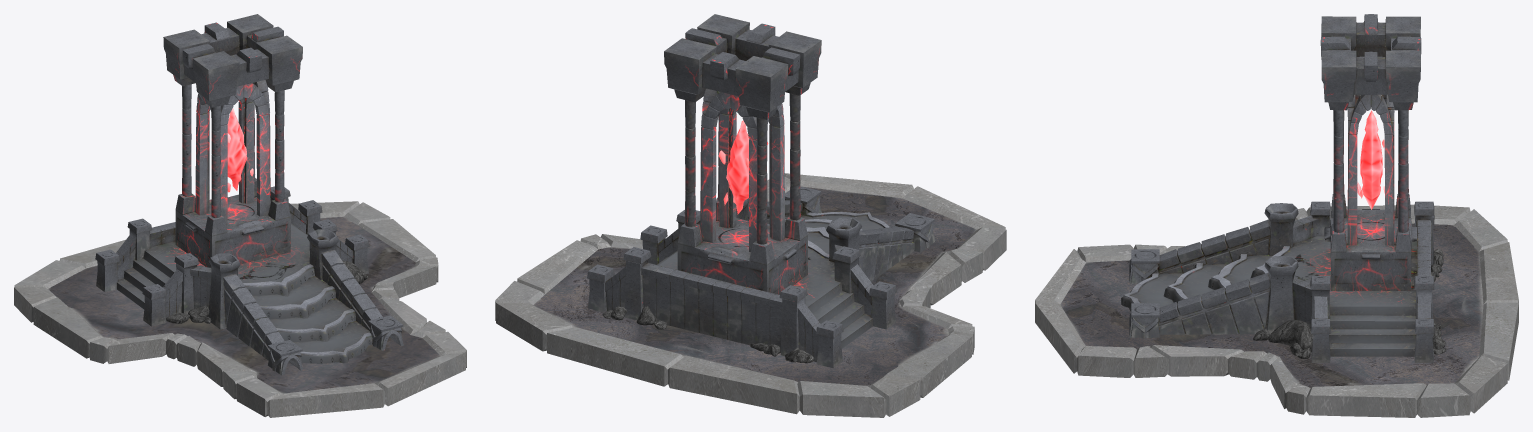
Rendered from agriels_crystal_altar.glb.
The picture shows the model from 3 angles, left to right: view 1: azimuth 30°, elevation 25°; view 2: azimuth 150°, elevation 25°; view 3: azimuth 270°, elevation 25°; orthographic projection. The views are drawn at different scales.
Visible parts, largest first — view 1: Diorama, polySurface1, CrystalAltar_Stand_low, CrystalAltar_IsideArk_low, Crystals_low; view 2: Diorama, polySurface1, CrystalAltar_Stand_low, CrystalAltar_IsideArk_low, Crystals_low; view 3: Diorama, polySurface1, CrystalAltar_Stand_low, CrystalAltar_IsideArk_low, Crystals_low, Rock14.
Boxes of the visible parts, x1,y1,x2,y2 form: Diorama: (14,201,466,417); polySurface1: (95,186,403,375); CrystalAltar_Stand_low: (163,14,302,267); CrystalAltar_IsideArk_low: (195,80,270,224); Crystals_low: (227,108,253,192); Diorama: (495,173,1006,417); polySurface1: (587,186,935,368); CrystalAltar_Stand_low: (664,14,821,294); CrystalAltar_IsideArk_low: (700,88,784,252); Crystals_low: (718,120,768,214); Diorama: (1035,204,1518,417); polySurface1: (1121,201,1434,362); CrystalAltar_Stand_low: (1320,14,1421,290); CrystalAltar_IsideArk_low: (1347,94,1394,245); Crystals_low: (1357,110,1384,209); Rock14: (1268,320,1312,351).
Size of the model in its own units: 10.48 by 7.12 by 11.09.
3 materials, 3 textured.
